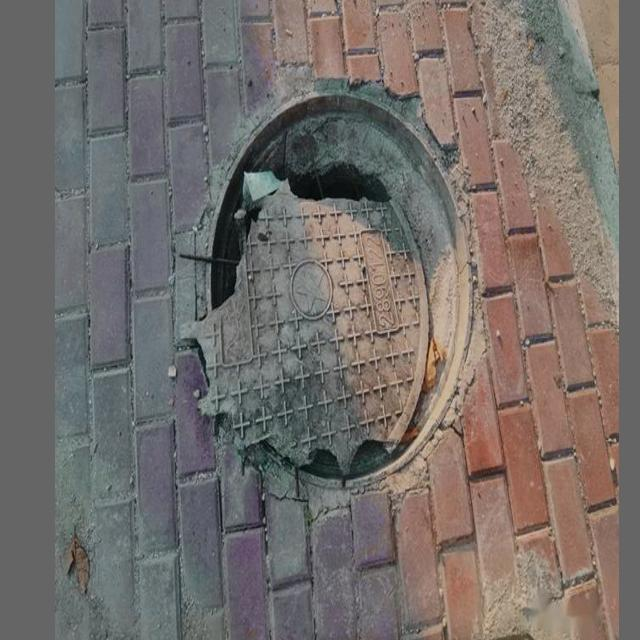broke: (180, 68, 489, 508)
